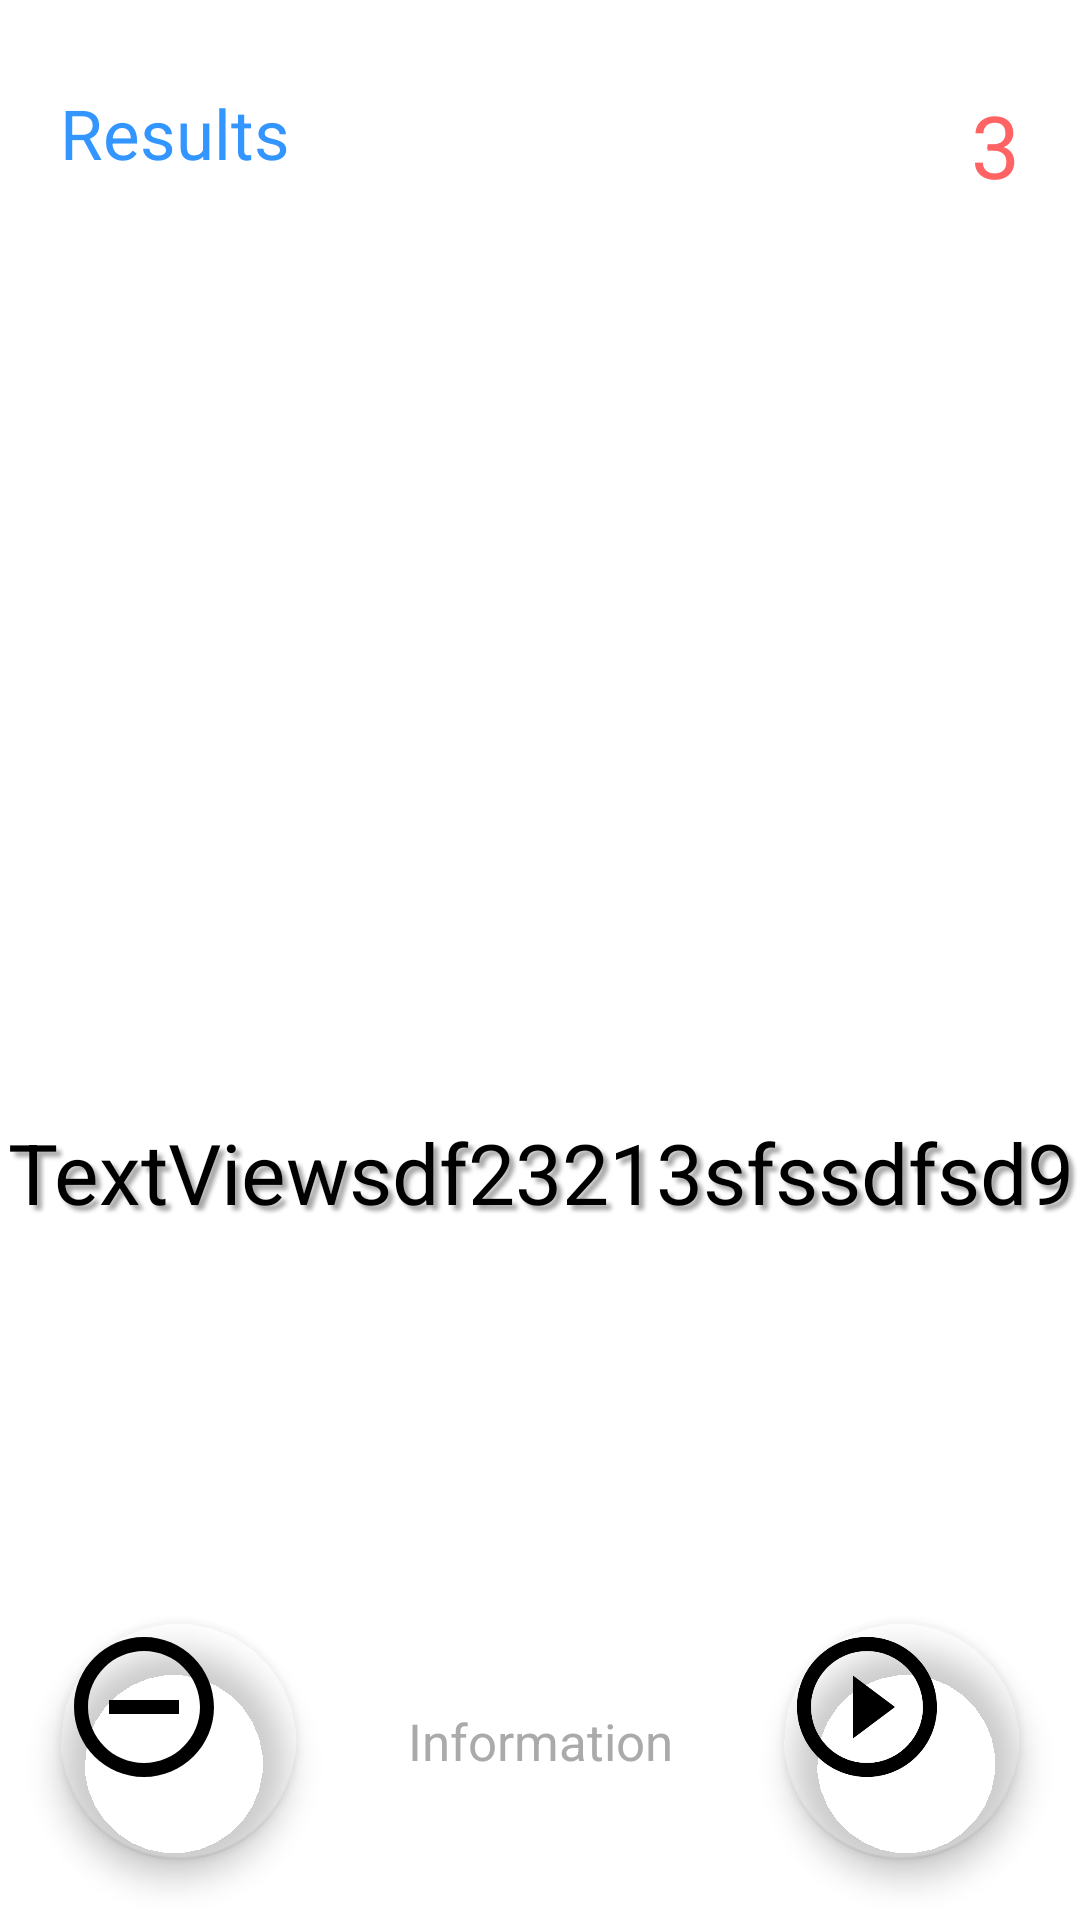

Named icons in this screenshot (1080px x 1920px) and their centers, (x=x, y=y):
play: (x=902, y=1748)
remove: (x=178, y=1748)
